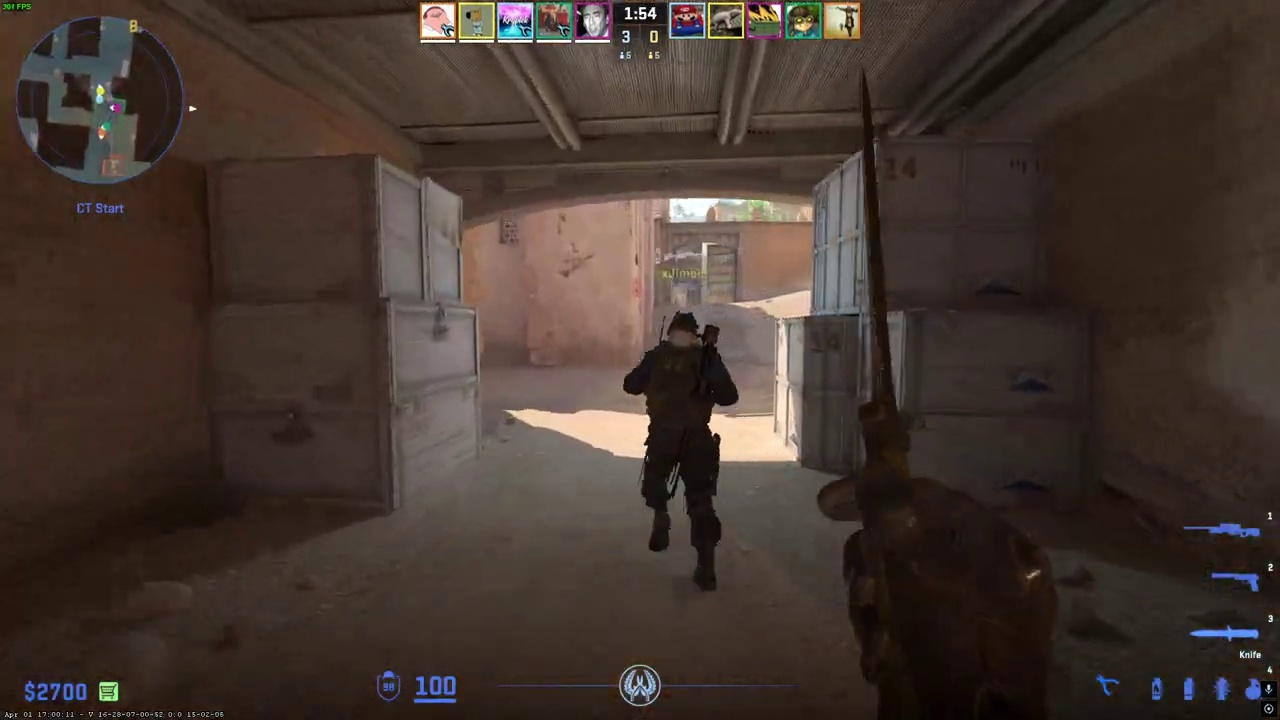CT: (630, 310, 734, 589)
